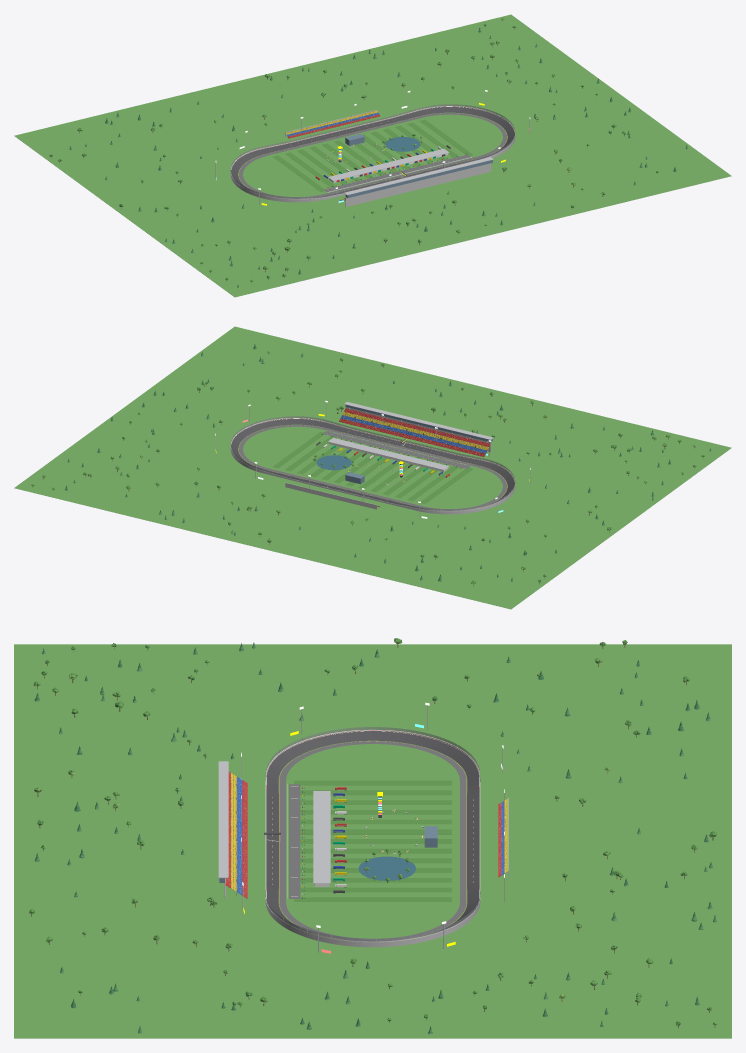
File: oval.glb
3 renders of one model, top to bottom at view 1: azimuth 30°, elevation 25°; view 2: azimuth 150°, elevation 25°; view 3: azimuth 270°, elevation 25°, orthographic. The views are drawn at different scales.
Visible parts, largest first — view 1: map; view 2: map; view 3: map.
Part boxes in pixels (left/top/right/bottom): map: left=14, top=14, right=731, bottom=297; map: left=14, top=326, right=731, bottom=609; map: left=14, top=638, right=731, bottom=1038.
Size of the model in its own units: 1300 by 41.78 by 1000.
